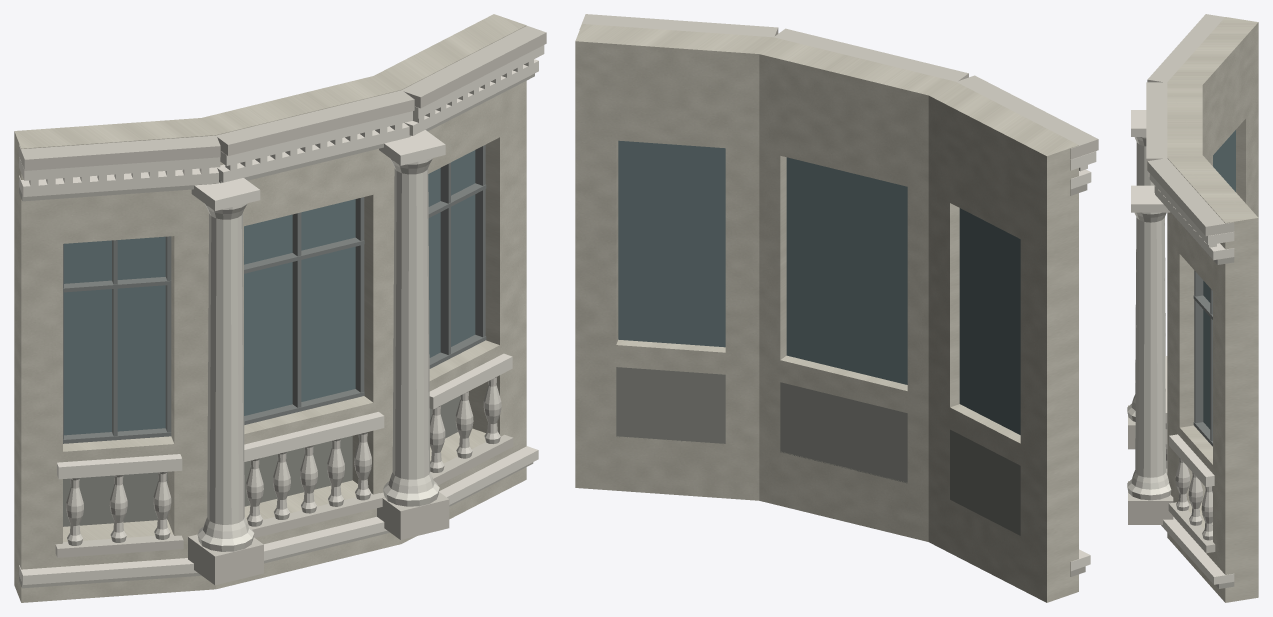
File: fuxing-492-curved-window-bay-far.glb
3 views of the same model, side by side, from view 1: azimuth 30°, elevation 25°; view 2: azimuth 150°, elevation 25°; view 3: azimuth 270°, elevation 25° (orthographic). The views are drawn at different scales.
Parts seen in each view (by area): view 1: 复兴中路492号住宅浅弧窗湾与瓶形栏杆; view 2: 复兴中路492号住宅浅弧窗湾与瓶形栏杆; view 3: 复兴中路492号住宅浅弧窗湾与瓶形栏杆.
Part boxes in pixels (left/top/right/bottom): 复兴中路492号住宅浅弧窗湾与瓶形栏杆: left=14, top=14, right=546, bottom=602; 复兴中路492号住宅浅弧窗湾与瓶形栏杆: left=575, top=14, right=1098, bottom=602; 复兴中路492号住宅浅弧窗湾与瓶形栏杆: left=1127, top=14, right=1258, bottom=602.
Size of the model in its own units: 5.12 by 4.26 by 1.33.
9 materials, 1 textured.
